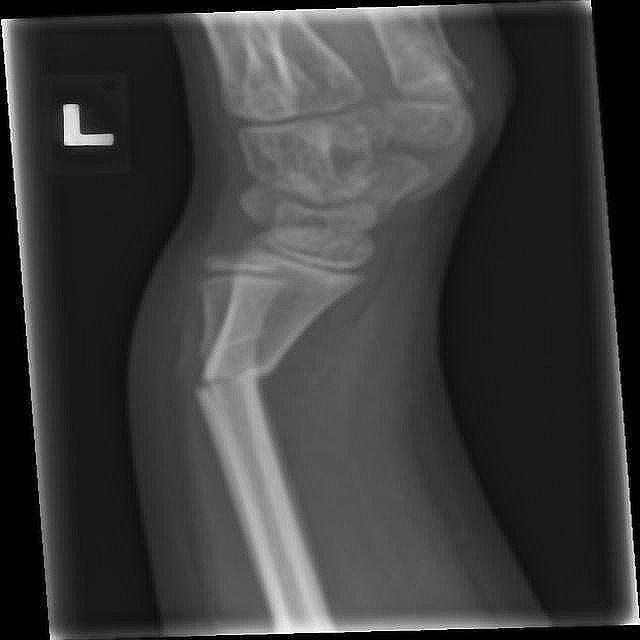bone: (194, 320, 265, 370), (191, 358, 279, 396)
